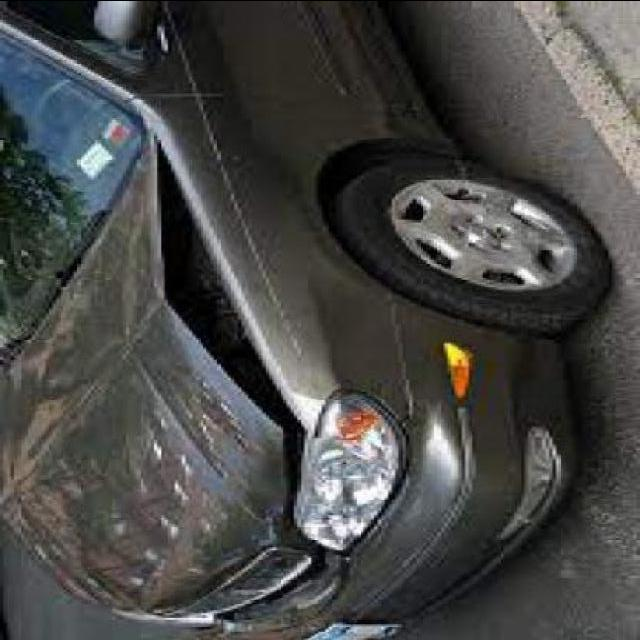bonnet-dent: (6, 190, 290, 591)
